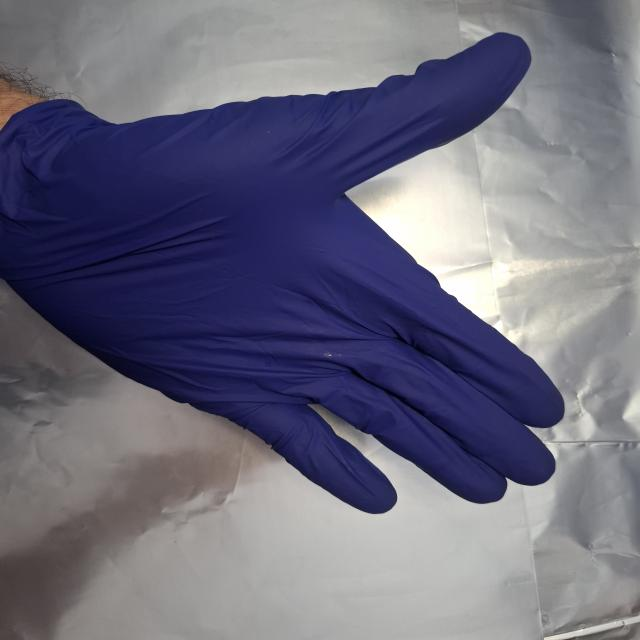glove_on: (0, 28, 568, 517)
